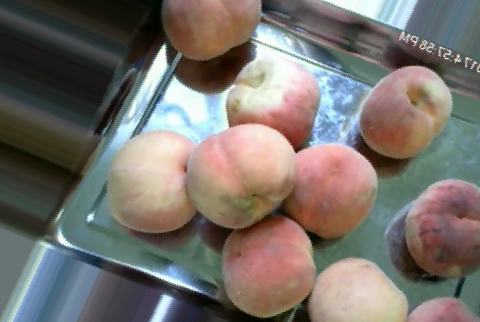Peach: (185, 123, 296, 227), (215, 214, 316, 315), (218, 53, 321, 148), (107, 130, 201, 232), (282, 142, 376, 239), (357, 67, 452, 158), (402, 178, 480, 276), (309, 254, 407, 322), (161, 0, 259, 60)
